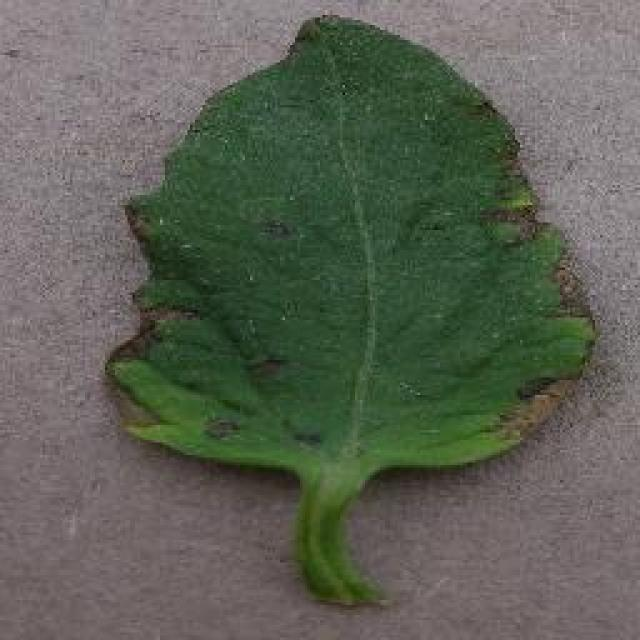bacterial spot: (98, 13, 592, 601)
